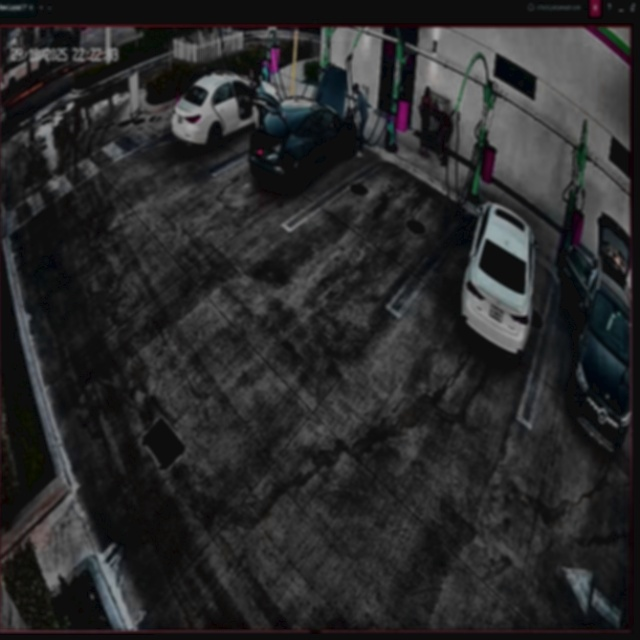Car: (252, 64, 357, 188), (458, 202, 539, 361), (173, 72, 280, 148)
